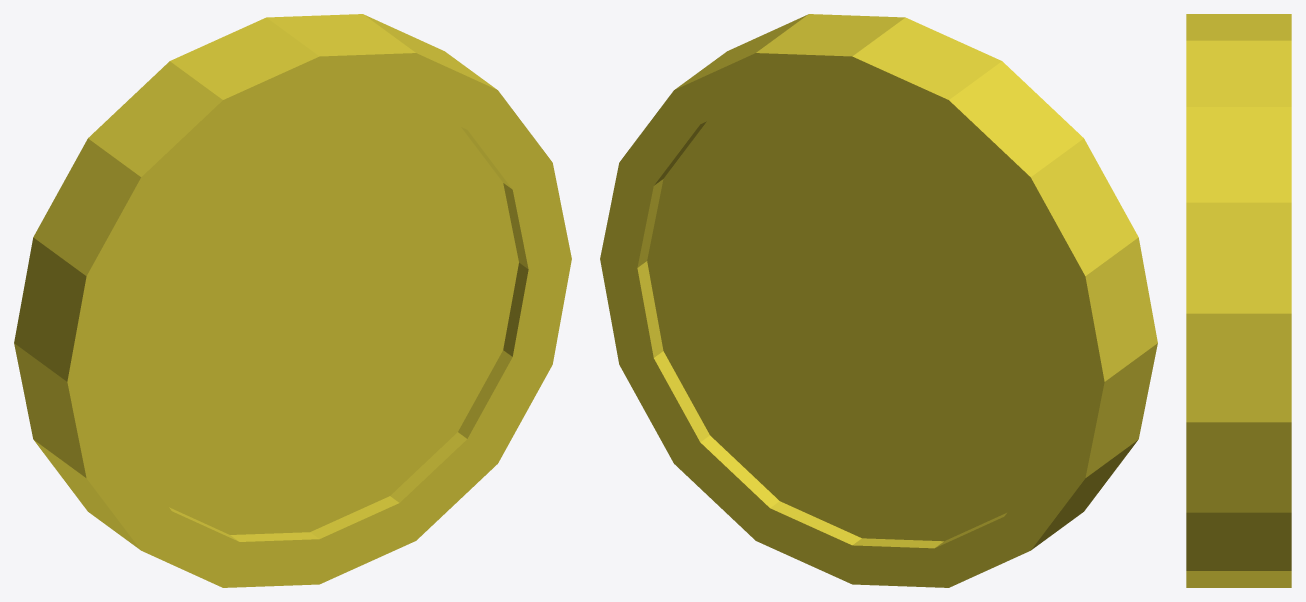
File: bb_coin.fbx
3 views of the same model, side by side, from view 1: azimuth 30°, elevation 25°; view 2: azimuth 150°, elevation 25°; view 3: azimuth 270°, elevation 25° (orthographic).
Parts seen in each view (by area): view 1: coin; view 2: coin; view 3: coin.
Boxes of the visible parts, x1,y1,x2,y2 form: coin: [14, 14, 571, 587]; coin: [600, 14, 1157, 587]; coin: [1186, 14, 1291, 587].
Size of the model in its own units: 200 by 200 by 36.6.
